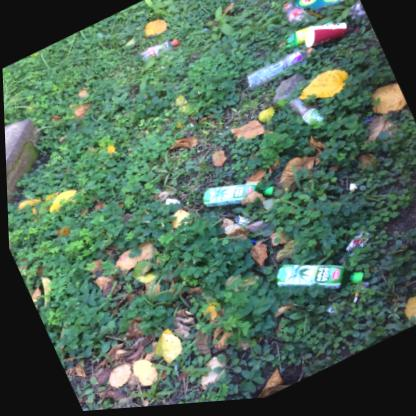Paper: (304, 27, 346, 52), (347, 188, 356, 195)
Plastic: (245, 52, 312, 93), (272, 269, 361, 294), (200, 186, 272, 209), (286, 100, 322, 128), (140, 41, 178, 64), (280, 6, 308, 27), (344, 236, 367, 261), (283, 31, 308, 53), (348, 6, 366, 25), (232, 217, 250, 228)
Waste: (294, 0, 345, 14), (350, 297, 356, 308), (173, 41, 178, 48), (308, 52, 312, 55)
